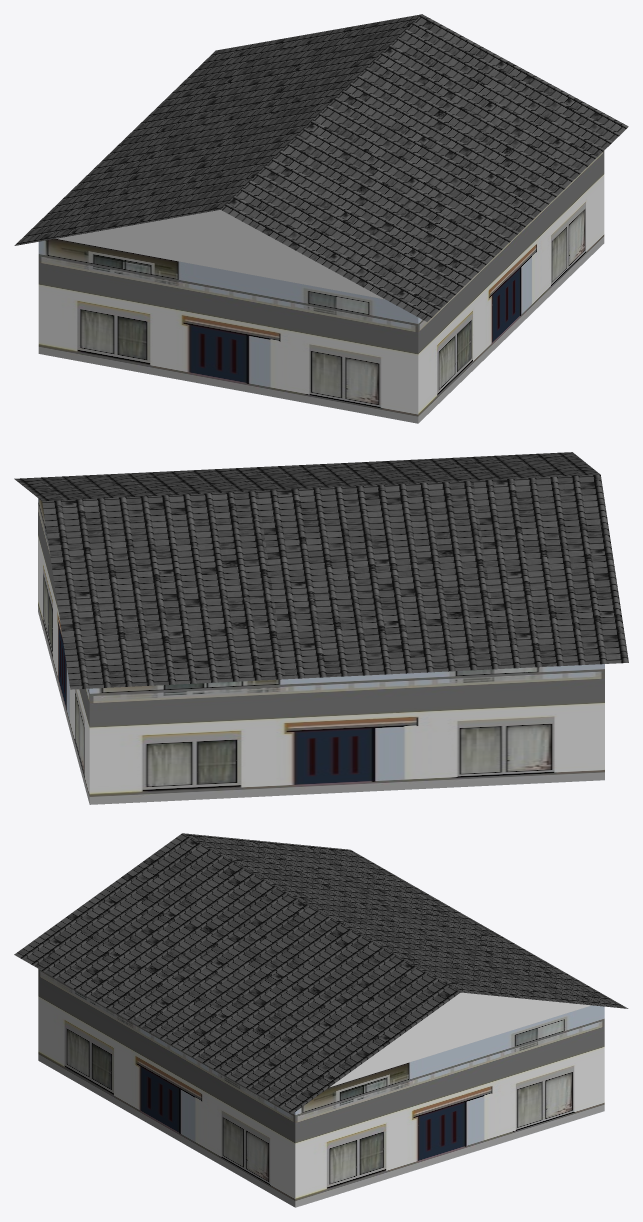
3 renders of one model, top to bottom at view 1: azimuth 30°, elevation 25°; view 2: azimuth 150°, elevation 25°; view 3: azimuth 270°, elevation 25°, orthographic. The views are drawn at different scales.
Visible parts, largest first — view 1: CityEngineMaterial_8_m, CityEngineMaterial_7_m, CityEngineMaterial_3_m; view 2: CityEngineMaterial_8_m, CityEngineMaterial_7_m; view 3: CityEngineMaterial_8_m, CityEngineMaterial_7_m, CityEngineMaterial_3_m.
Part boxes in pixels (<box>): CityEngineMaterial_8_m: <box>14,14,628,321</box>; CityEngineMaterial_7_m: <box>38,151,604,423</box>; CityEngineMaterial_3_m: <box>56,210,384,299</box>; CityEngineMaterial_8_m: <box>14,452,628,689</box>; CityEngineMaterial_7_m: <box>38,498,604,804</box>; CityEngineMaterial_8_m: <box>14,833,628,1113</box>; CityEngineMaterial_7_m: <box>38,969,604,1207</box>; CityEngineMaterial_3_m: <box>330,992,591,1086</box>.
Bounding box in the file's own units: 34.58 × 10.56 × 34.
